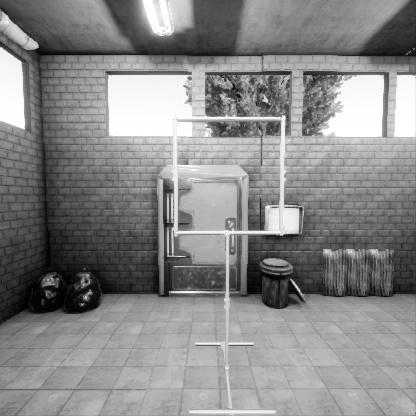gate: (171, 185, 292, 305)
